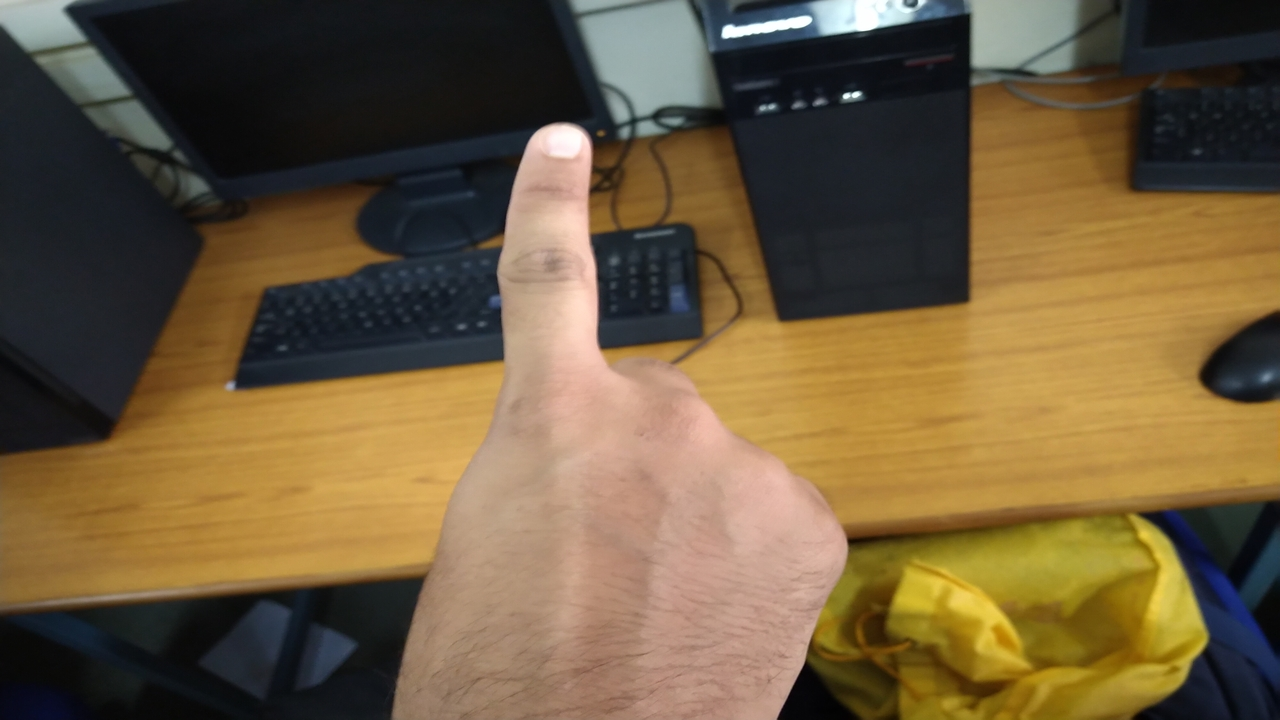fingertip: (510, 112, 600, 186)
